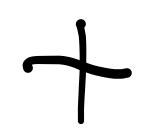plus: (23, 19, 131, 124)
